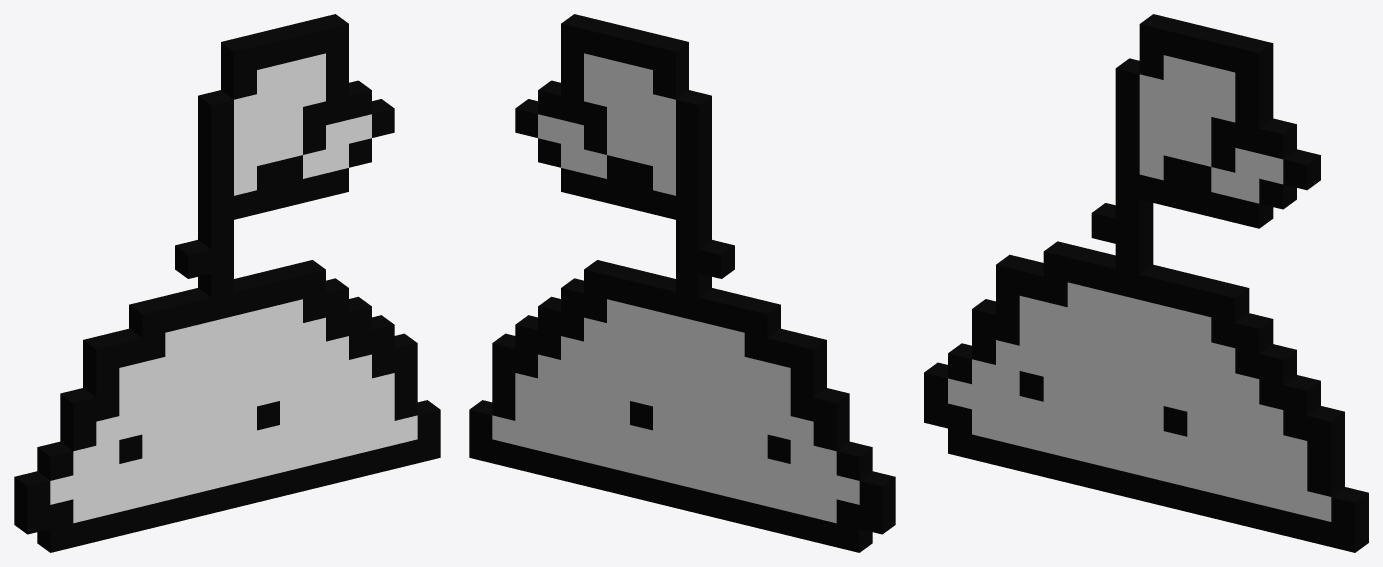
The model's file is slimeking-toss-5.obj.
The picture shows the model from 3 angles, left to right: view 1: azimuth 30°, elevation 25°; view 2: azimuth 150°, elevation 25°; view 3: azimuth 330°, elevation 25°; orthographic projection. The views are drawn at different scales.
Bounding box in the file's own units: 1.8 × 1.9 × 0.1.
Materials: 1 (1 with a texture image).
